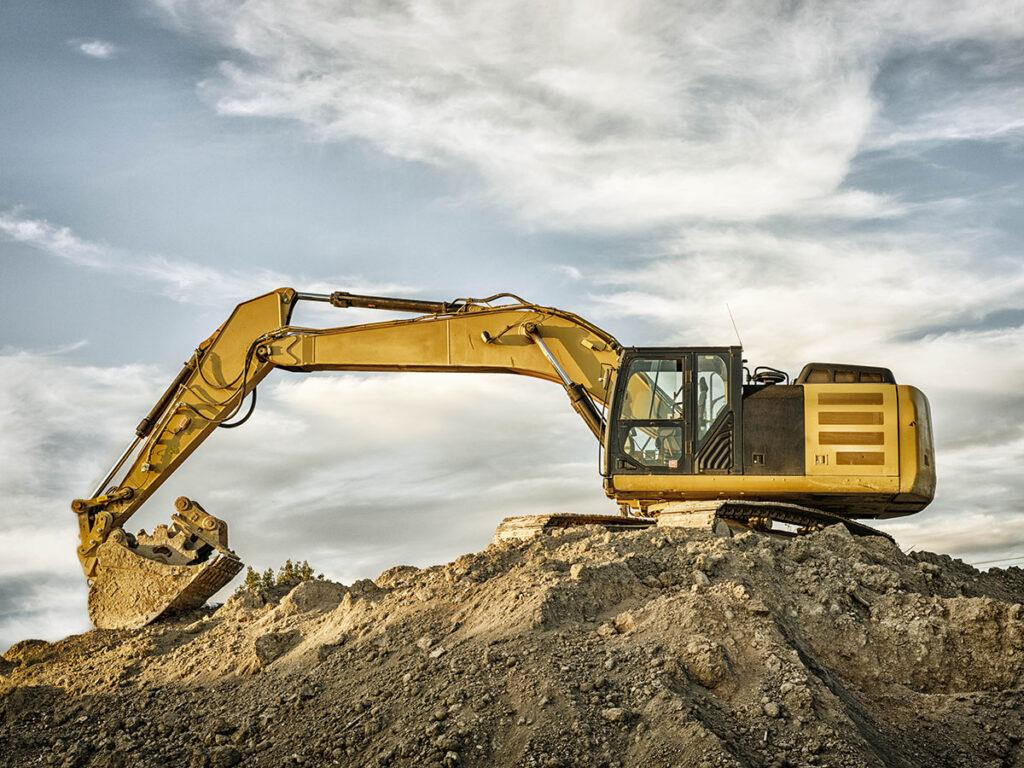excavator: (68, 284, 925, 519)
